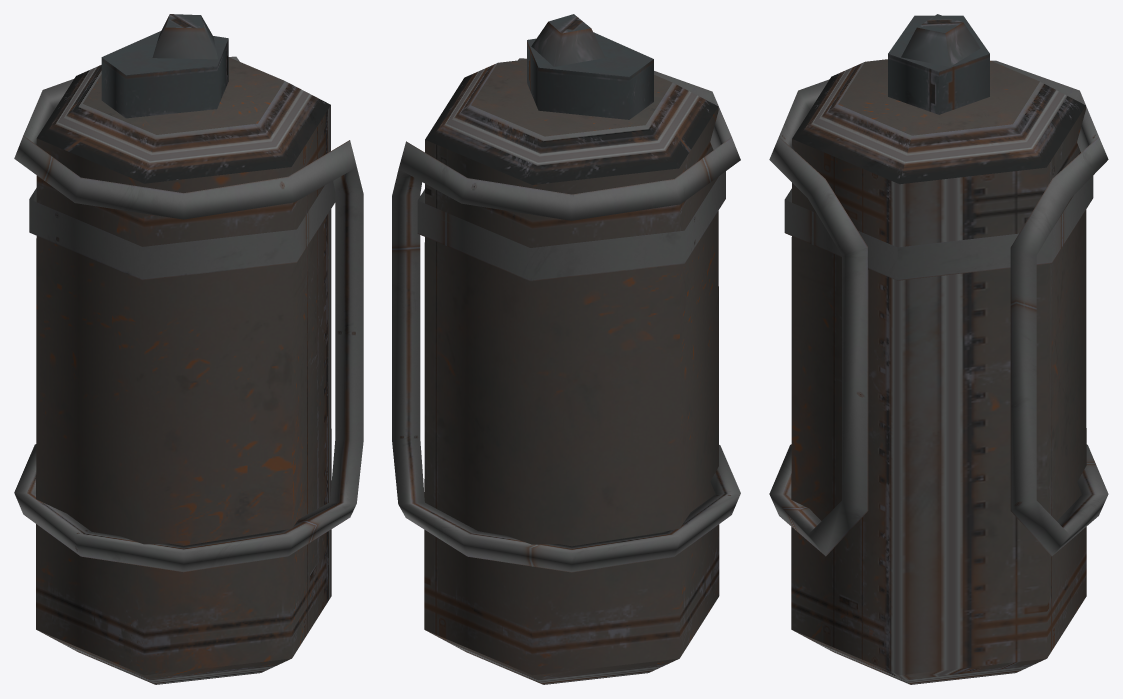
Rendered from Prop_Cylinder2_L3.fbx.
3 renders of one model, left to right at view 1: azimuth 30°, elevation 25°; view 2: azimuth 150°, elevation 25°; view 3: azimuth 270°, elevation 25°, orthographic.
Visible parts, largest first — view 1: Prop_Cylinder2_L3; view 2: Prop_Cylinder2_L3; view 3: Prop_Cylinder2_L3.
Part boxes in pixels (x1=…): Prop_Cylinder2_L3: x1=14, y1=14, x2=363, y2=684; Prop_Cylinder2_L3: x1=392, y1=14, x2=740, y2=684; Prop_Cylinder2_L3: x1=769, y1=14, x2=1108, y2=684.
Bounding box in the file's own units: 75.31 × 163 × 81.05.
